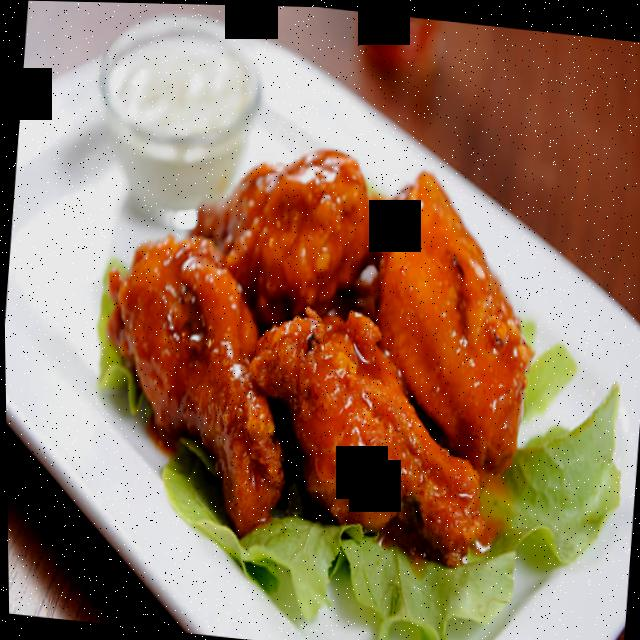Frango: (80, 114, 548, 580)
